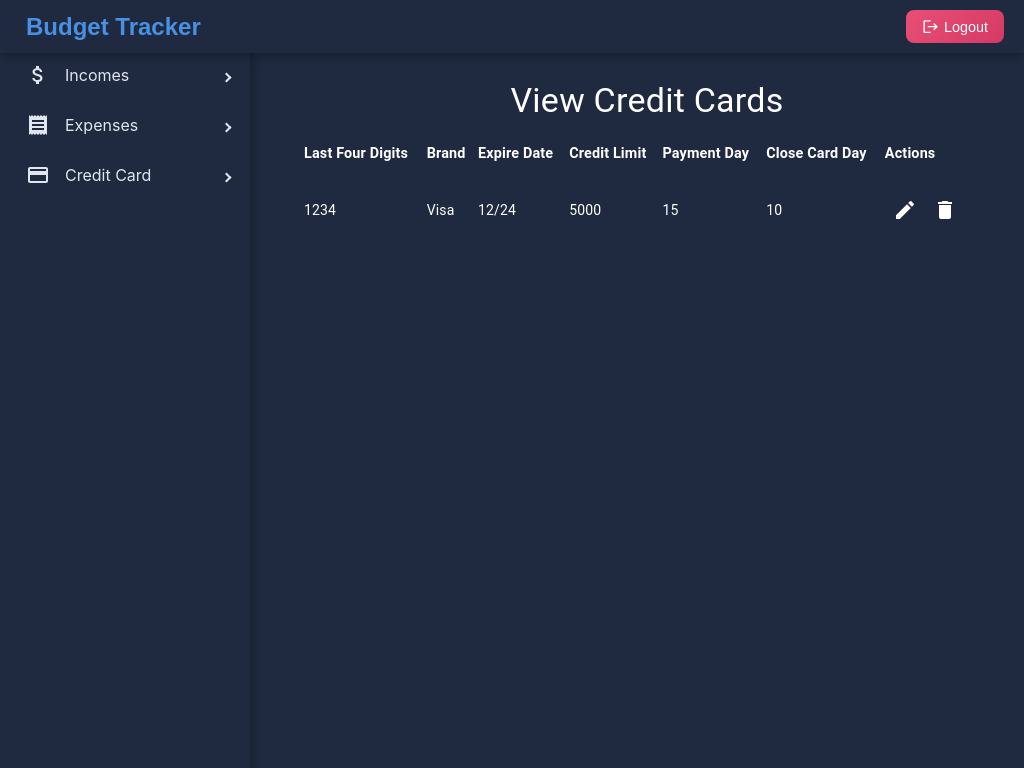
ViewCreditCard View › opens delete confirmation dialog and deletes a credit card
The image size is (1024, 768).
Expected: the text "1234" is shown, [304,174,427,246]
Click on the delete button by targeting the `data-testid` of the `DeleteIcon`
Click the button with test id "DeleteIcon": (945, 210) [925,190,965,230]
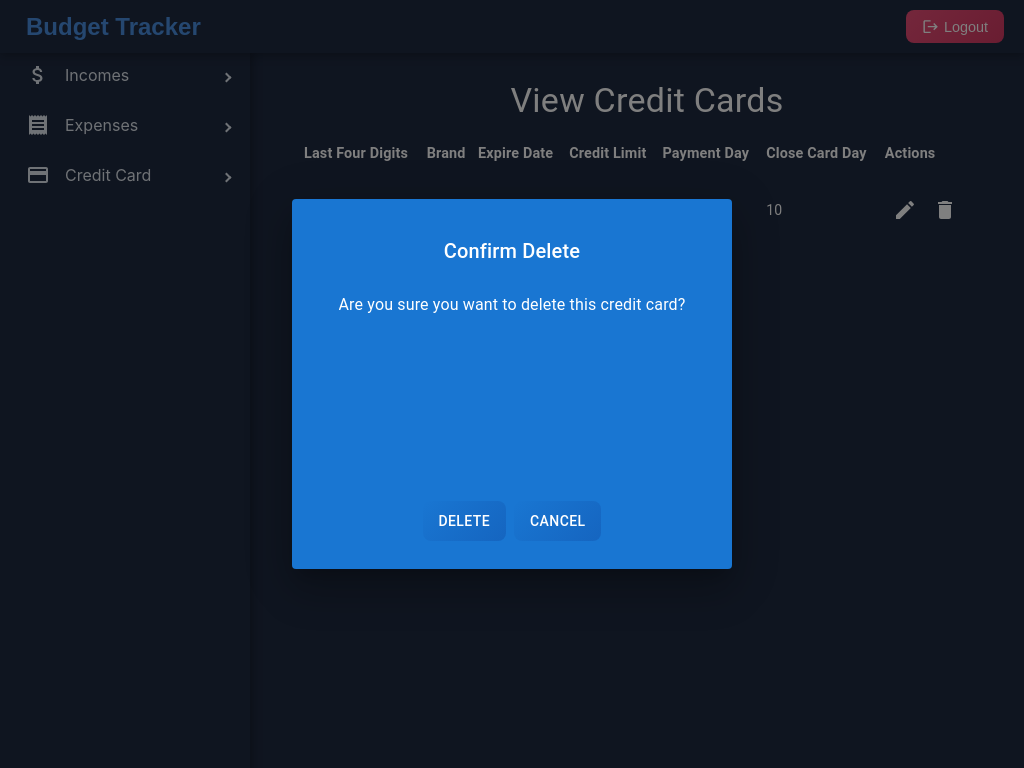
Result: the text "Are you sure you want to delete this credit card?" is shown at [338,293,685,317]
Click delete in the dialog
Click the button "Delete": (464, 521) [422,501,506,541]
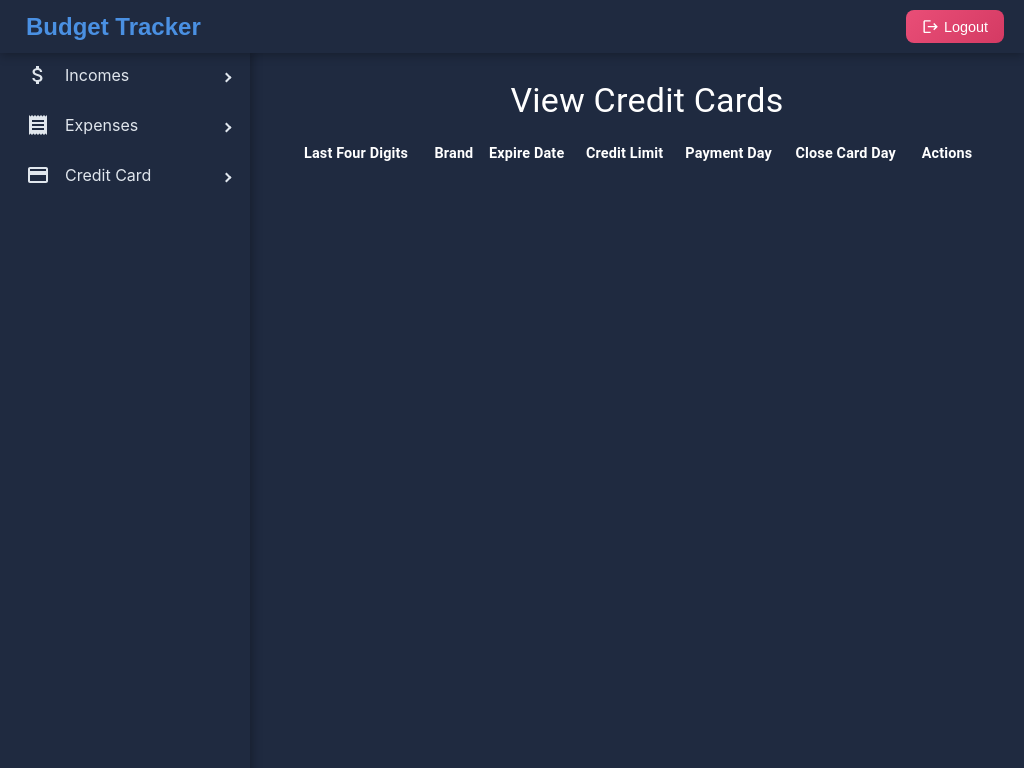
Result: the text "1234" is gone
